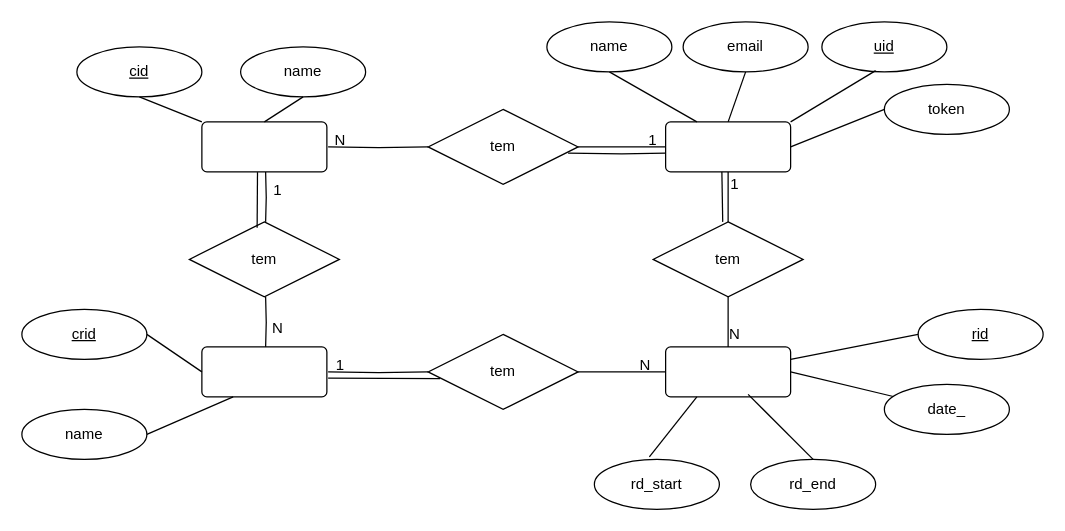
The diagram is 1065 pixels wide and 531 high, and some of its shapes have lost their labels. Here are the shapes that lost their labels. From the top down, the box of each, then its label:
(201, 121, 327, 172): Club
(664, 121, 791, 172): User
(201, 346, 327, 397): Court
(664, 346, 791, 397): Rental
